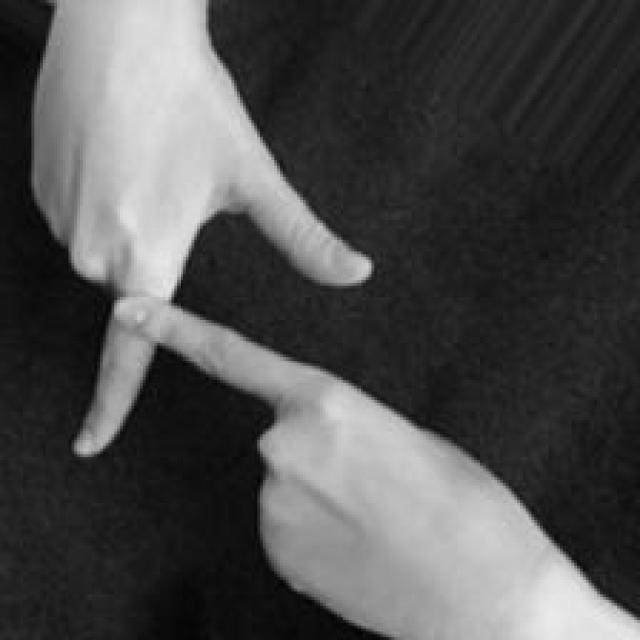F: (28, 2, 434, 640)
